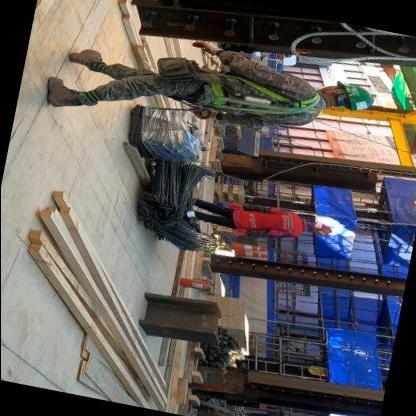Helmet: (335, 77, 371, 115)
safety-shoe: (33, 68, 84, 120), (56, 37, 103, 70)
